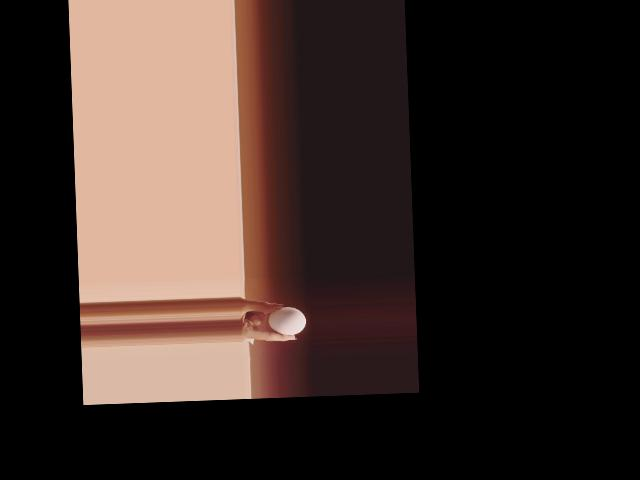egg: (267, 306, 306, 336)
